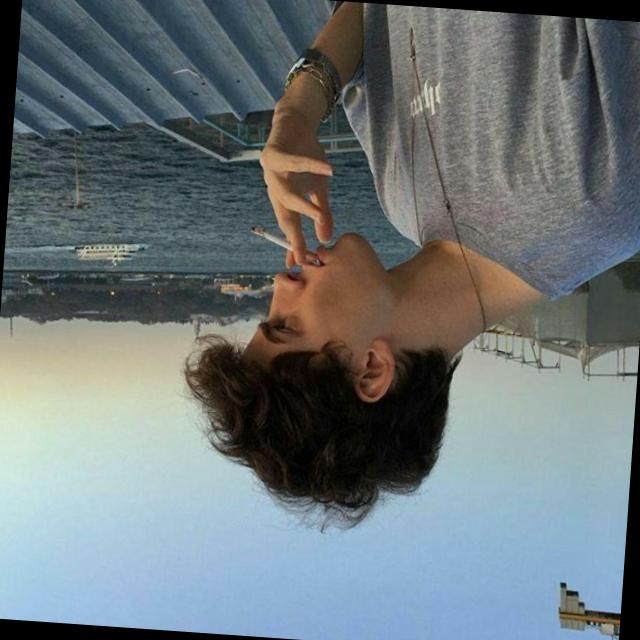smoke: (204, 201, 330, 274)
